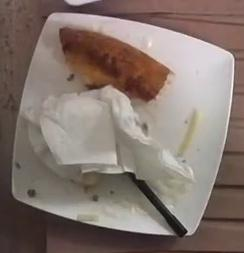pizza_crust: (60, 27, 170, 101)
